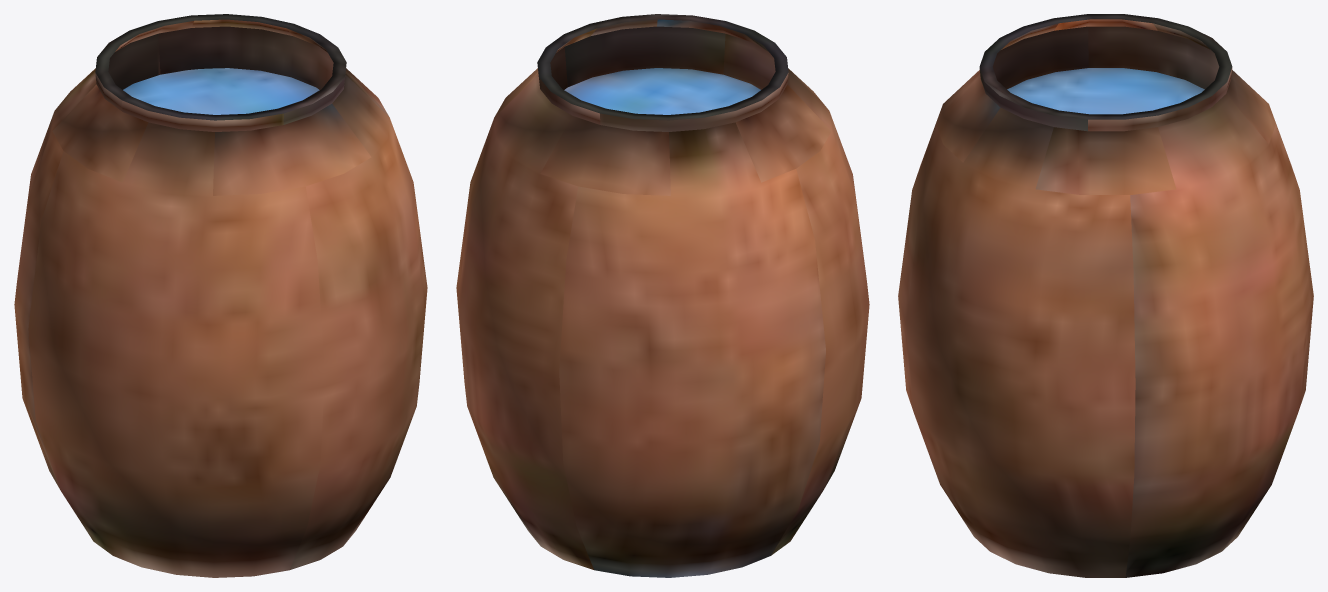
Rendered from water jar.fbx.
3 renders of one model, left to right at view 1: azimuth 30°, elevation 25°; view 2: azimuth 150°, elevation 25°; view 3: azimuth 270°, elevation 25°, orthographic.
Parts seen in each view (by area): view 1: Cylinder; view 2: Cylinder; view 3: Cylinder.
Boxes of the visible parts, <box> form: Cylinder: <box>14,14,427,577</box>; Cylinder: <box>456,14,869,577</box>; Cylinder: <box>898,14,1313,577</box>.
Size of the model in its own units: 96.86 by 118 by 97.85.
